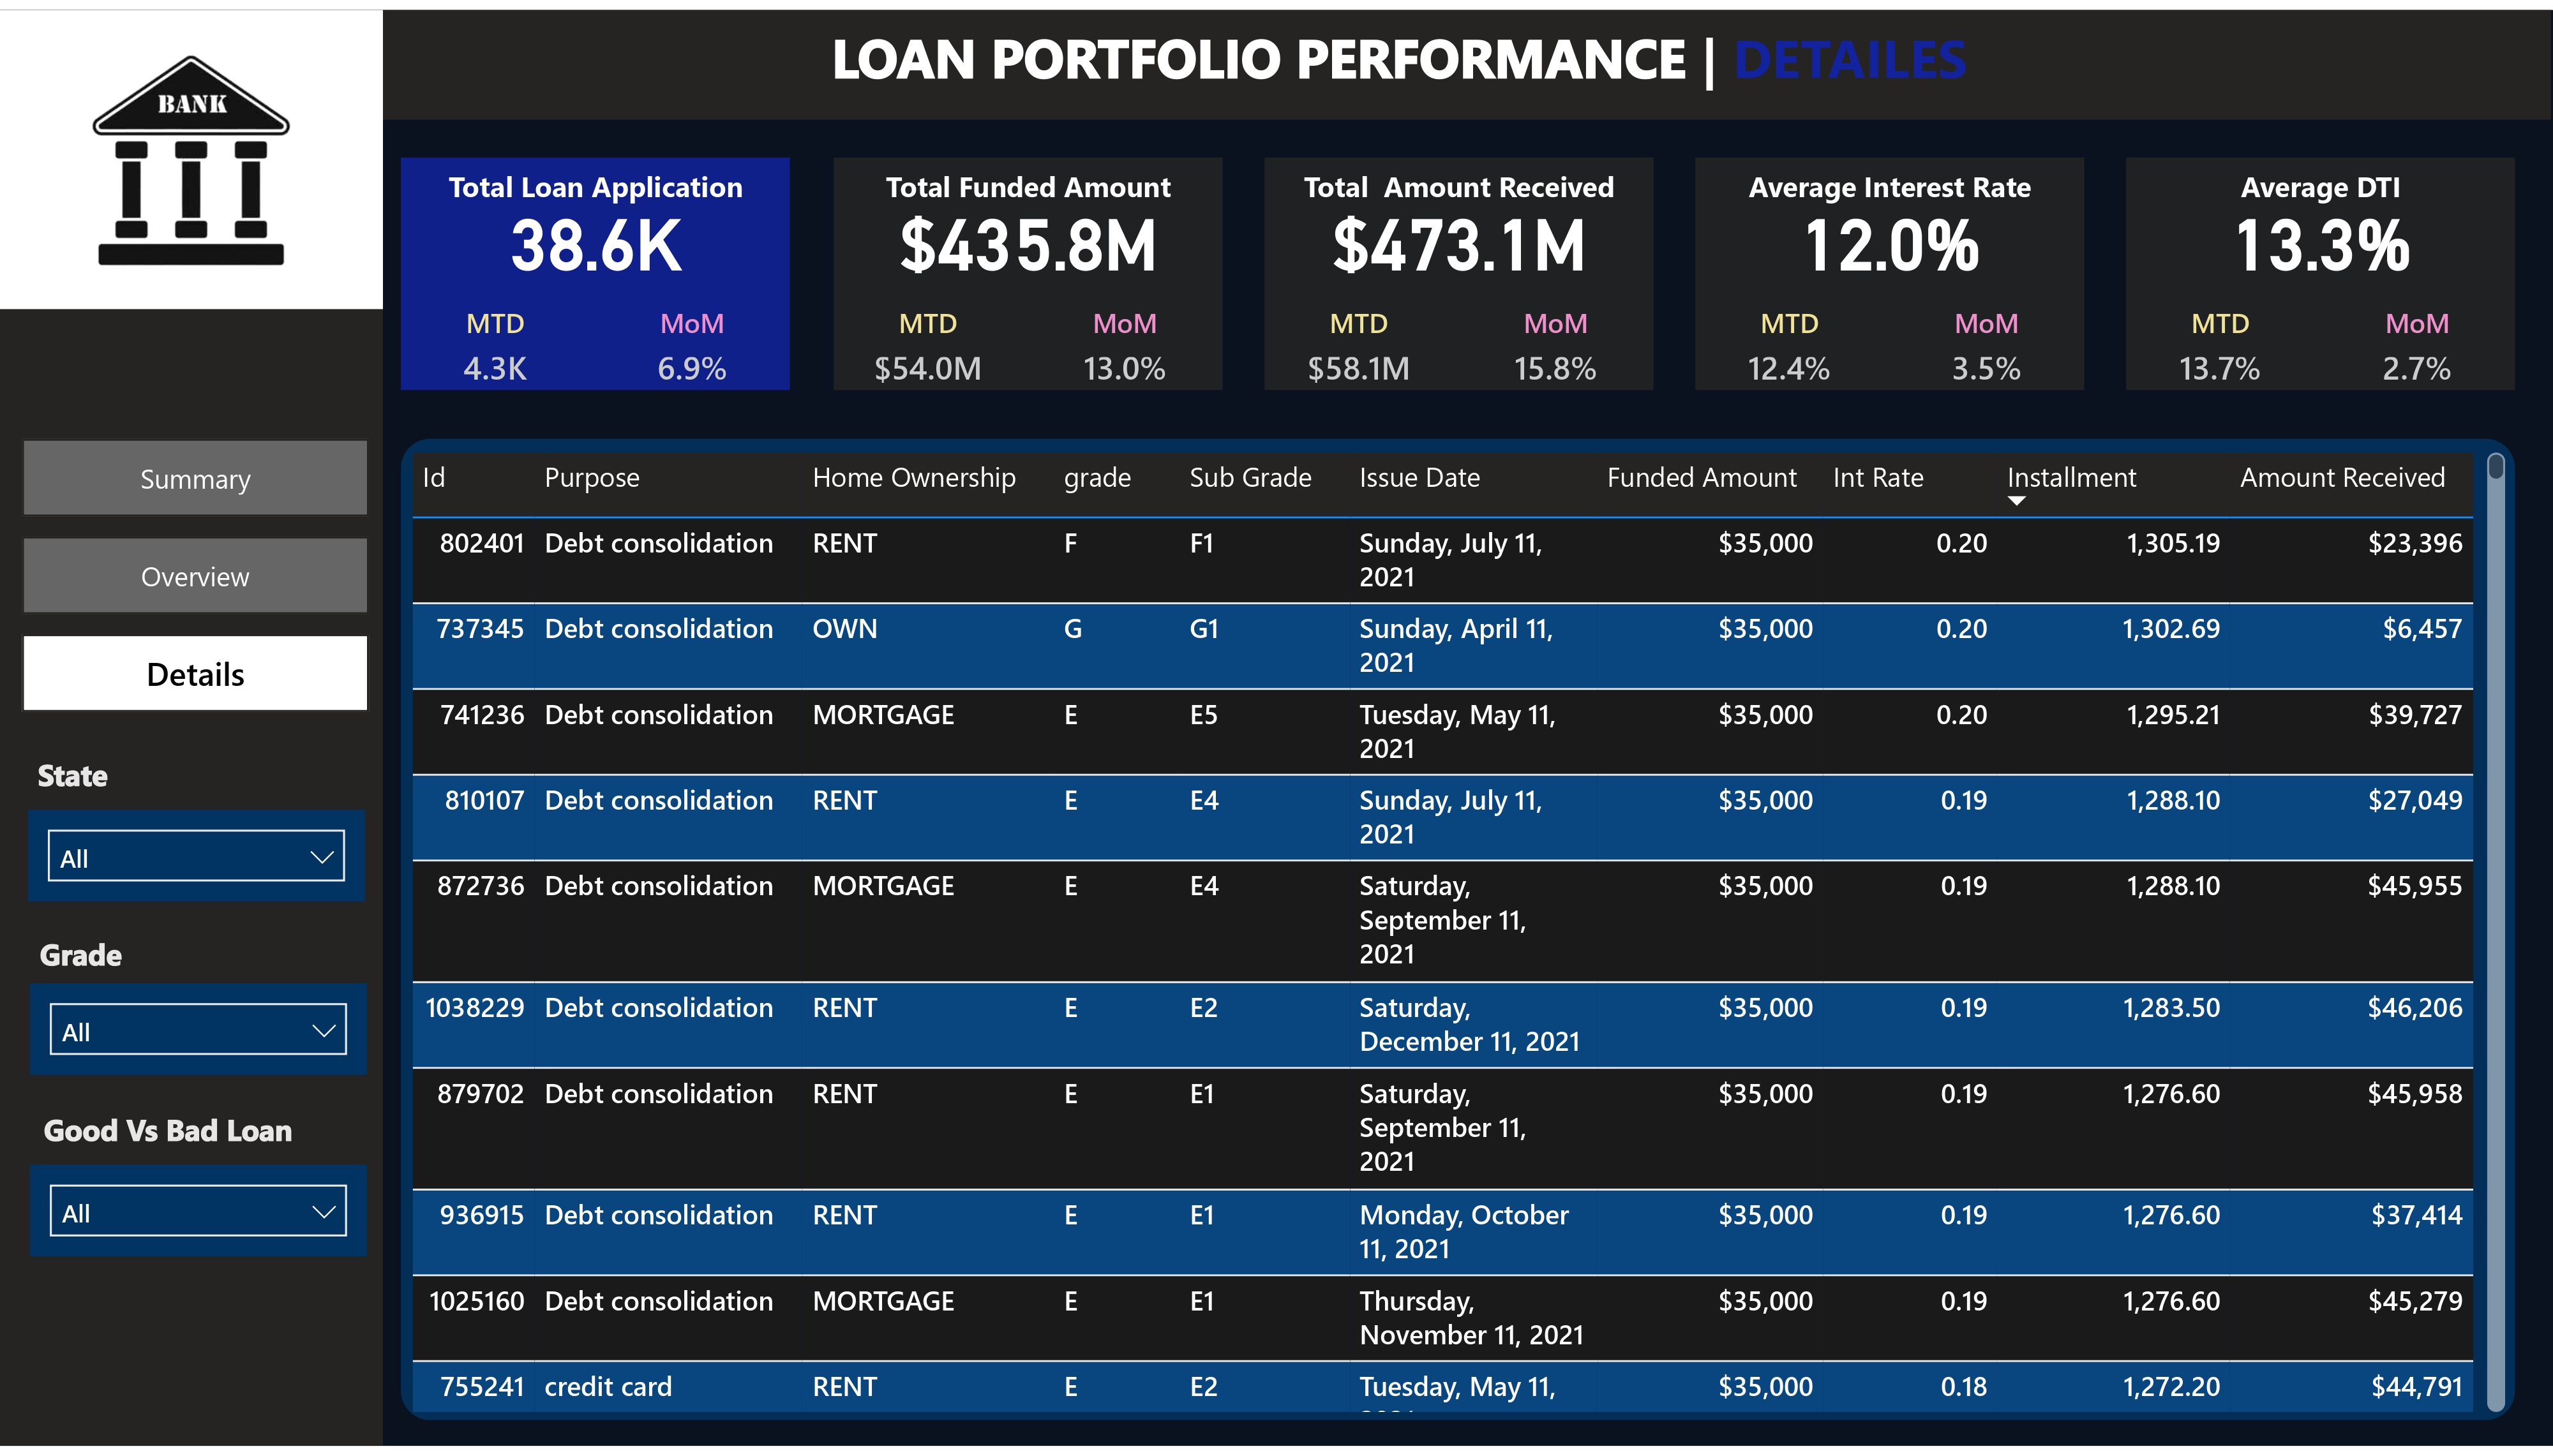

This screenshot's page, from the dashboard's own definition file:
{"tool":"powerbi","page":{"name":"Details","canvas":[1280,720],"ordinal":2},"visuals":[{"type":"shape","box":[201.4,74.2,195.3,116.6],"z":0,"group":"g1"},{"type":"shape","box":[201.4,215,1059.9,492.1],"z":0},{"type":"slicer","fields":{"Values":["bank_loan_data.Good vs Bad Loan"]},"box":[14.7,578.7,169.4,45.7],"z":0,"group":"g6"},{"type":"shape","box":[0,54.5,192.3,664.7],"z":1000},{"type":"shape","box":[417.5,74.2,195.3,116.6],"z":1000,"group":"g2"},{"type":"shape","box":[633.7,74.2,195.3,116.6],"z":1000,"group":"g3"},{"type":"shape","box":[849.8,74.2,195.3,116.6],"z":1000,"group":"g4"},{"type":"shape","box":[1066,74.2,195.3,116.6],"z":1000,"group":"g5"},{"type":"card","title":"Total Loan Applications","fields":{"Values":["bank_loan_data.Total Loan Applications"]},"box":[201.4,92.4,195.3,45.4],"z":1000,"group":"g1"},{"type":"textbox","box":[16.3,545.9,169.4,32.8],"z":1000,"group":"g6"},{"type":"shape","box":[0,0,1279.4,55],"z":2000},{"type":"textbox","box":[201.4,74.2,195.3,34.8],"z":2000,"group":"g1"},{"type":"textbox","box":[411.9,0,584.5,54.5],"z":3000},{"type":"card","title":"Total Loan Applications","fields":{"Values":["bank_loan_data.Total Funded Amount"]},"box":[417.5,92.4,195.3,45.4],"z":3000,"group":"g2"},{"type":"card","title":"Total Loan Applications","fields":{"Values":["bank_loan_data.Total Amount Received"]},"box":[633.7,92.4,195.3,45.4],"z":3000,"group":"g3"},{"type":"card","title":"Total Loan Applications","fields":{"Values":["bank_loan_data.Average Interest Rate"]},"box":[849.8,92.4,195.3,45.4],"z":3000,"group":"g4"},{"type":"card","title":"Total Loan Applications","fields":{"Values":["bank_loan_data.Avg DTI"]},"box":[1066,92.4,195.3,45.4],"z":3000,"group":"g5"},{"type":"card","title":"MTD ","fields":{"Values":["bank_loan_data.MTD Loan Application"]},"box":[215,148.4,66.6,42.4],"z":3000,"group":"g1"},{"type":"group","id":"g1","title":"Group 1","box":[201.4,74.2,195.3,116.6],"z":4000},{"type":"card","title":"MoM","fields":{"Values":["bank_loan_data.MoM Loan Applications"]},"box":[313.5,148.4,68.1,42.4],"z":4000,"group":"g1"},{"type":"group","id":"g2","title":"Group 2","box":[417.5,74.2,195.3,116.6],"z":5000},{"type":"textbox","box":[417.5,74.2,195.3,34.8],"z":5000,"group":"g2"},{"type":"textbox","box":[633.7,74.2,195.3,34.8],"z":5000,"group":"g3"},{"type":"textbox","box":[849.8,74.2,195.3,34.8],"z":5000,"group":"g4"},{"type":"textbox","box":[1066,74.2,195.3,34.8],"z":5000,"group":"g5"},{"type":"group","id":"g3","title":"Group 2","box":[633.7,74.2,195.3,116.6],"z":6000},{"type":"group","id":"g4","title":"Group 2","box":[849.8,74.2,195.3,116.6],"z":7000},{"type":"card","title":"MTD ","fields":{"Values":["bank_loan_data.MTD Funded Amount"]},"box":[431.1,148.4,66.6,42.4],"z":7000,"group":"g2"},{"type":"card","title":"MTD ","fields":{"Values":["bank_loan_data.MTD Total Amount Received"]},"box":[647.3,148.4,66.6,42.4],"z":7000,"group":"g3"},{"type":"card","title":"MTD ","fields":{"Values":["bank_loan_data.MTD Average Interest Rate"]},"box":[863.4,148.4,66.6,42.4],"z":7000,"group":"g4"},{"type":"card","title":"MTD ","fields":{"Values":["bank_loan_data.MTD Avg DTI"]},"box":[1079.6,148.4,66.6,42.4],"z":7000,"group":"g5"},{"type":"group","id":"g5","title":"Group 2","box":[1066,74.2,195.3,116.6],"z":8000},{"type":"card","title":"MoM","fields":{"Values":["bank_loan_data.MoM Funded Amount"]},"box":[529.6,148.4,68.1,42.4],"z":8000,"group":"g2"},{"type":"card","title":"MoM","fields":{"Values":["bank_loan_data.MoM Received Amount"]},"box":[745.8,148.4,68.1,42.4],"z":8000,"group":"g3"},{"type":"card","title":"MoM","fields":{"Values":["bank_loan_data.MoM Average Interest Rate"]},"box":[961.9,148.4,68.1,42.4],"z":8000,"group":"g4"},{"type":"card","title":"MoM","fields":{"Values":["bank_loan_data.MoM Avg DTI"]},"box":[1178.1,148.4,68.1,42.4],"z":8000,"group":"g5"},{"type":"tableEx","fields":{"Values":["bank_loan_data.id","bank_loan_data.purpose","bank_loan_data.home_ownership","bank_loan_data.grade","bank_loan_data.sub_grade","bank_loan_data.issue_date","bank_loan_data.Total Funded Amount","Sum(bank_loan_data.int_rate)","Sum(bank_loan_data.installment)","bank_loan_data.Total Amount Received"]},"box":[201.4,216.5,1059.9,490.6],"z":9000},{"type":"group","id":"g6","title":"Group 3","box":[14.7,545.9,171,78.5],"z":9000,"group":"g8"},{"type":"pageNavigator","box":[10.6,215,174.1,137.8],"z":10000},{"type":"group","id":"g7","title":"Group 4","box":[14.1,458.4,169.4,75.6],"z":10000,"group":"g8"},{"type":"group","id":"g8","title":"Group 6","box":[13.6,368,172.6,255.9],"z":11000},{"type":"group","id":"g9","title":"Group 5","box":[13.6,368,169.4,78.5],"z":11000,"group":"g8"},{"type":"image","box":[0,0,192.3,149.9],"z":12000},{"type":"slicer","fields":{"Values":["bank_loan_data.address_state"]},"box":[13.6,400.8,169.4,45.7],"z":19000,"group":"g9"},{"type":"textbox","box":[13.6,368,169.4,32.8],"z":20000,"group":"g9"},{"type":"slicer","fields":{"Values":["bank_loan_data.grade"]},"box":[14.1,488.4,169.4,45.7],"z":21000,"group":"g7"},{"type":"textbox","box":[14.1,458.4,169.4,32.8],"z":22001,"group":"g7"}]}

Visuals, with their boxes in screenshot pixels (x1, y1, x2, y2), scaled from the page's 1280x720 canvas onto the 2553x1456 screenshot:
shape: bbox(401, 150, 791, 386)
shape: bbox(401, 435, 2516, 1430)
slicer - bank_loan_data.Good vs Bad Loan: bbox(29, 1170, 367, 1263)
shape: bbox(0, 110, 384, 1454)
shape: bbox(833, 150, 1222, 386)
shape: bbox(1264, 150, 1654, 386)
shape: bbox(1695, 150, 2085, 386)
shape: bbox(2126, 150, 2516, 386)
"Total Loan Applications" card: bbox(401, 187, 791, 279)
textbox: bbox(33, 1104, 370, 1170)
shape: bbox(0, 0, 2552, 111)
textbox: bbox(401, 150, 791, 220)
textbox: bbox(821, 0, 1988, 110)
"Total Loan Applications" card: bbox(833, 187, 1222, 279)
"Total Loan Applications" card: bbox(1264, 187, 1654, 279)
"Total Loan Applications" card: bbox(1695, 187, 2085, 279)
"Total Loan Applications" card: bbox(2126, 187, 2516, 279)
"MTD " card: bbox(429, 300, 562, 386)
"Group 1" group: bbox(401, 150, 791, 386)
"MoM" card: bbox(625, 300, 761, 386)
"Group 2" group: bbox(833, 150, 1222, 386)
textbox: bbox(833, 150, 1222, 220)
textbox: bbox(1264, 150, 1654, 220)
textbox: bbox(1695, 150, 2085, 220)
textbox: bbox(2126, 150, 2516, 220)
"Group 2" group: bbox(1264, 150, 1654, 386)
"Group 2" group: bbox(1695, 150, 2085, 386)
"MTD " card: bbox(860, 300, 992, 386)
"MTD " card: bbox(1291, 300, 1424, 386)
"MTD " card: bbox(1722, 300, 1855, 386)
"MTD " card: bbox(2153, 300, 2286, 386)
"Group 2" group: bbox(2126, 150, 2516, 386)
"MoM" card: bbox(1056, 300, 1192, 386)
"MoM" card: bbox(1488, 300, 1623, 386)
"MoM" card: bbox(1919, 300, 2055, 386)
"MoM" card: bbox(2350, 300, 2485, 386)
tableEx - bank_loan_data.id x bank_loan_data.purpose: bbox(401, 438, 2516, 1430)
"Group 3" group: bbox(29, 1104, 370, 1263)
pageNavigator: bbox(21, 435, 368, 713)
"Group 4" group: bbox(28, 927, 366, 1080)
"Group 6" group: bbox(27, 744, 371, 1261)
"Group 5" group: bbox(27, 744, 365, 903)
image: bbox(0, 0, 384, 303)
slicer - bank_loan_data.address_state: bbox(27, 810, 365, 903)
textbox: bbox(27, 744, 365, 810)
slicer - bank_loan_data.grade: bbox(28, 988, 366, 1080)
textbox: bbox(28, 927, 366, 993)
